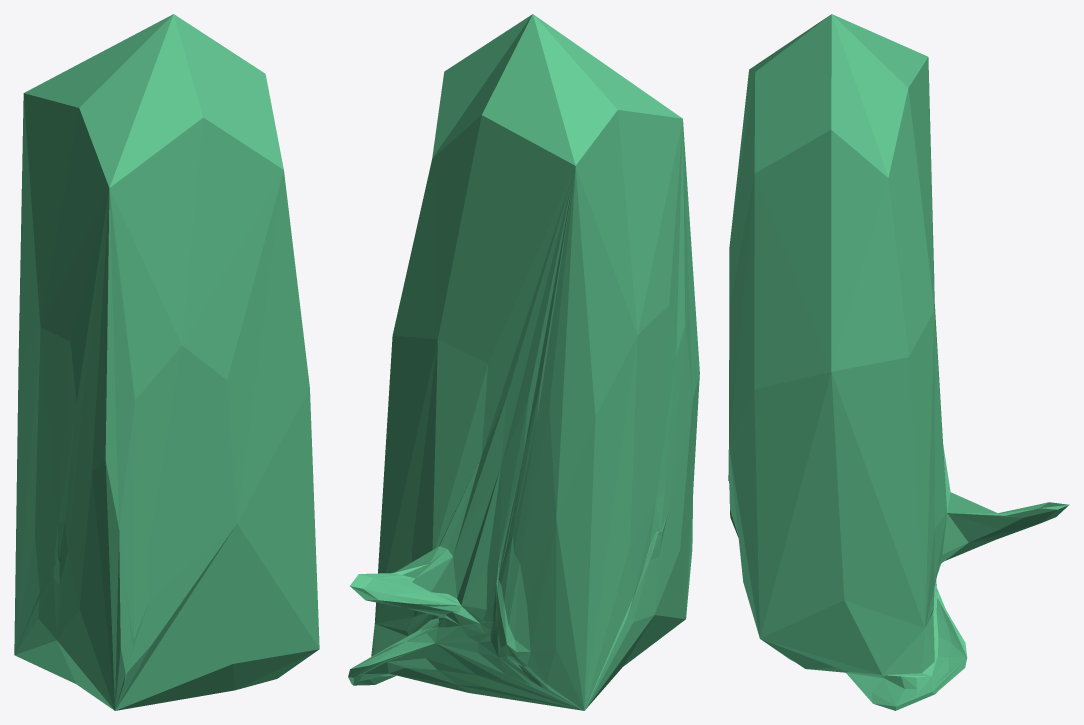
The picture shows the model from 3 angles, left to right: view 1: azimuth 30°, elevation 25°; view 2: azimuth 150°, elevation 25°; view 3: azimuth 270°, elevation 25°; orthographic projection. The views are drawn at different scales.
Visible parts, largest first — view 1: 487_Cube.1975; view 2: 487_Cube.1975; view 3: 487_Cube.1975.
Part boxes in pixels (left/top/right/bottom): 487_Cube.1975: left=14, top=14, right=319, bottom=710; 487_Cube.1975: left=348, top=14, right=699, bottom=710; 487_Cube.1975: left=728, top=14, right=1069, bottom=710.
Bounding box in the file's own units: 4.87 × 12.63 × 6.12.
